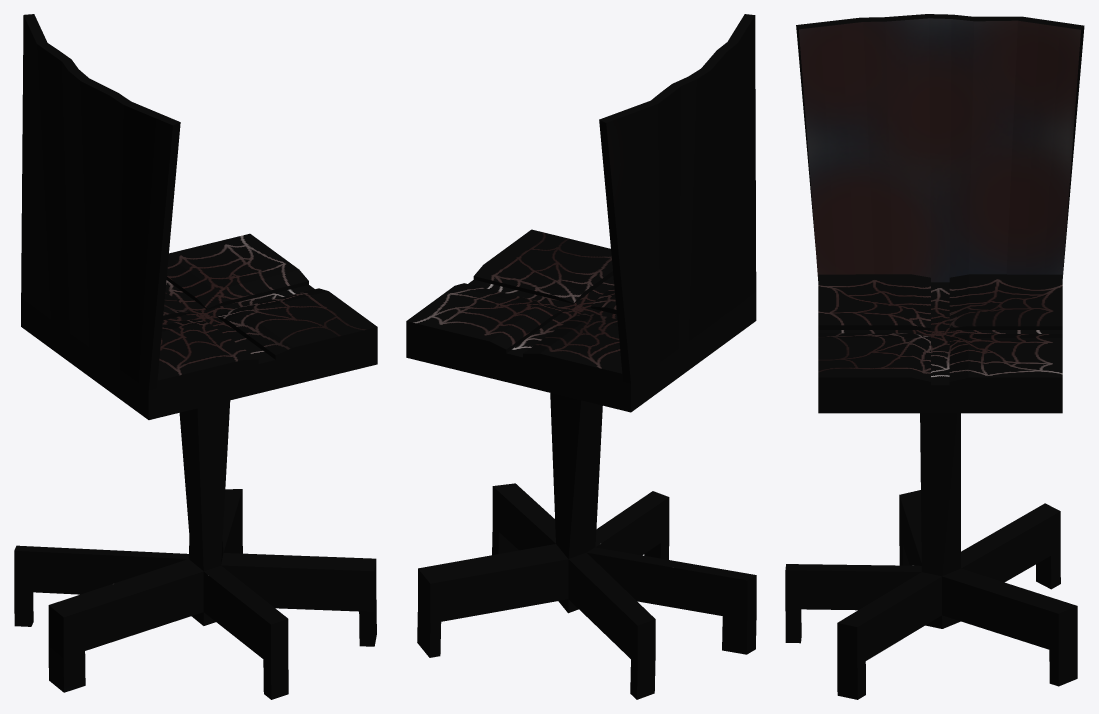
File: OfficeChair.fbx
3 renders of one model, left to right at view 1: azimuth 30°, elevation 25°; view 2: azimuth 150°, elevation 25°; view 3: azimuth 270°, elevation 25°, orthographic. The views are drawn at different scales.
Visible parts, largest first — view 1: chair; view 2: chair; view 3: chair.
Part boxes in pixels (x1,y1,x2,y2): chair: [14, 14, 377, 699]; chair: [406, 14, 756, 699]; chair: [785, 14, 1084, 699].
Size of the model in its own units: 267 by 513 by 245.
1 material, 1 textured.
